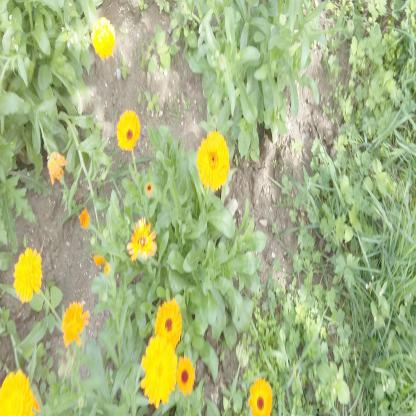marigold: (144, 339, 178, 406), (199, 132, 229, 189), (15, 250, 43, 303), (157, 302, 181, 350), (64, 300, 86, 348), (249, 376, 273, 416), (93, 18, 114, 58), (118, 112, 140, 150), (177, 359, 194, 393)
